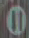Two way: (2, 2, 28, 36)
